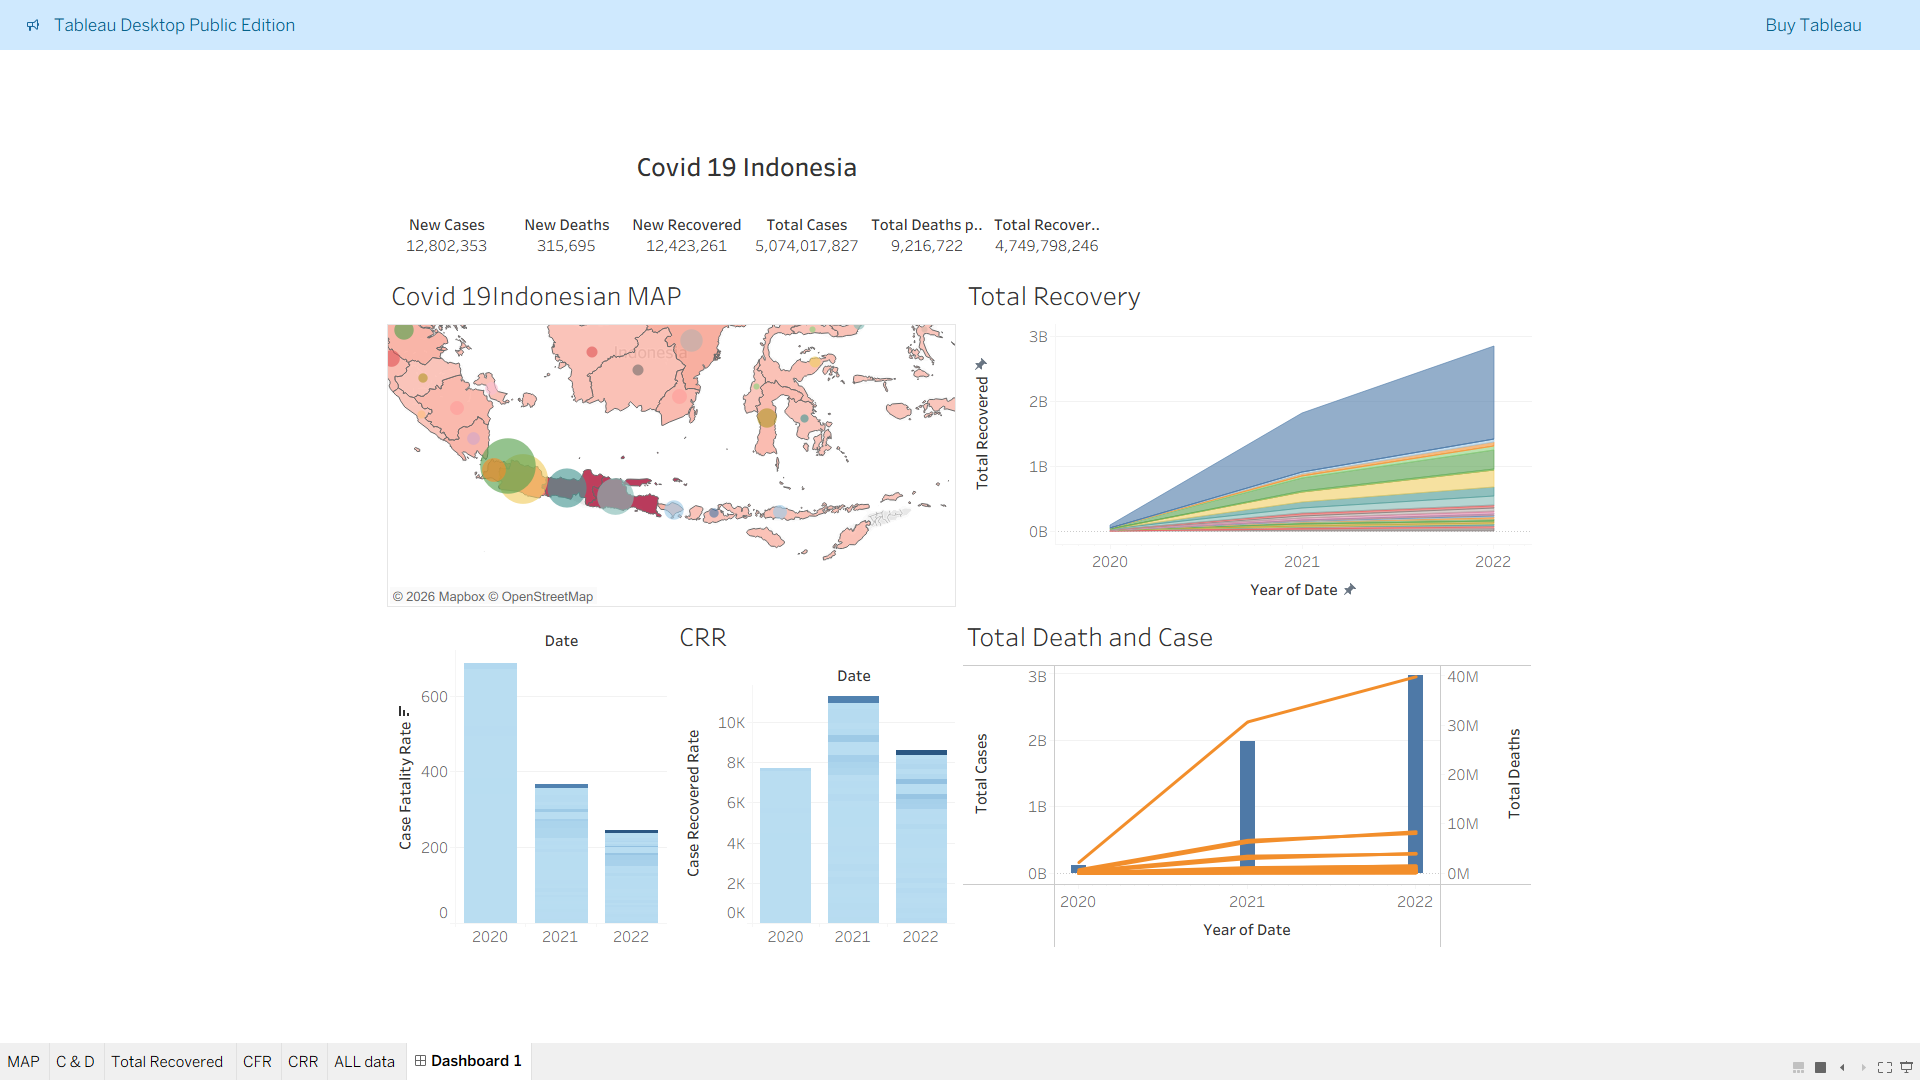

What the dashboard file says about the page in this screenshot:
{"tool":"tableau","page":{"name":"Dashboard 1","canvas":[1169,827],"ordinal":0},"visuals":[{"type":"worksheet","title":"ALL data","mark":"Automatic","box":[8,8,1153,129]},{"type":"worksheet","title":"MAP","mark":"Automatic","box":[8,137,576.5,341]},{"type":"worksheet","title":"Total Recovered","mark":"Area","rows":["Total Recovered"],"cols":["Date"],"box":[584.5,137,576.5,341]},{"type":"worksheet","title":"CFR","mark":"Bar","rows":["Case Fatality Rate"],"cols":["Date"],"box":[8,478,288.2,341]},{"type":"worksheet","title":"CRR","mark":"Bar","rows":["Case Recovered Rate"],"cols":["Date"],"box":[296.2,478,288.3,341]},{"type":"worksheet","title":"C & D","mark":"Automatic","rows":["Total Cases","Total Deaths"],"cols":["Date"],"box":[584.5,478,576.5,341]}]}

Visuals, with their boxes on the page's 1169x827 design canvas (x1, y1, x2, y2). These are canvas units, not pixel positions in the 1920x1080 screenshot, which may show the page scaled, cropped or inside an application window:
"ALL data" worksheet: l=8, t=8, r=1161, b=137
"MAP" worksheet: l=8, t=137, r=584, b=478
"Total Recovered" worksheet (Area marks): l=584, t=137, r=1161, b=478
"CFR" worksheet (Bar marks): l=8, t=478, r=296, b=819
"CRR" worksheet (Bar marks): l=296, t=478, r=584, b=819
"C & D" worksheet: l=584, t=478, r=1161, b=819
